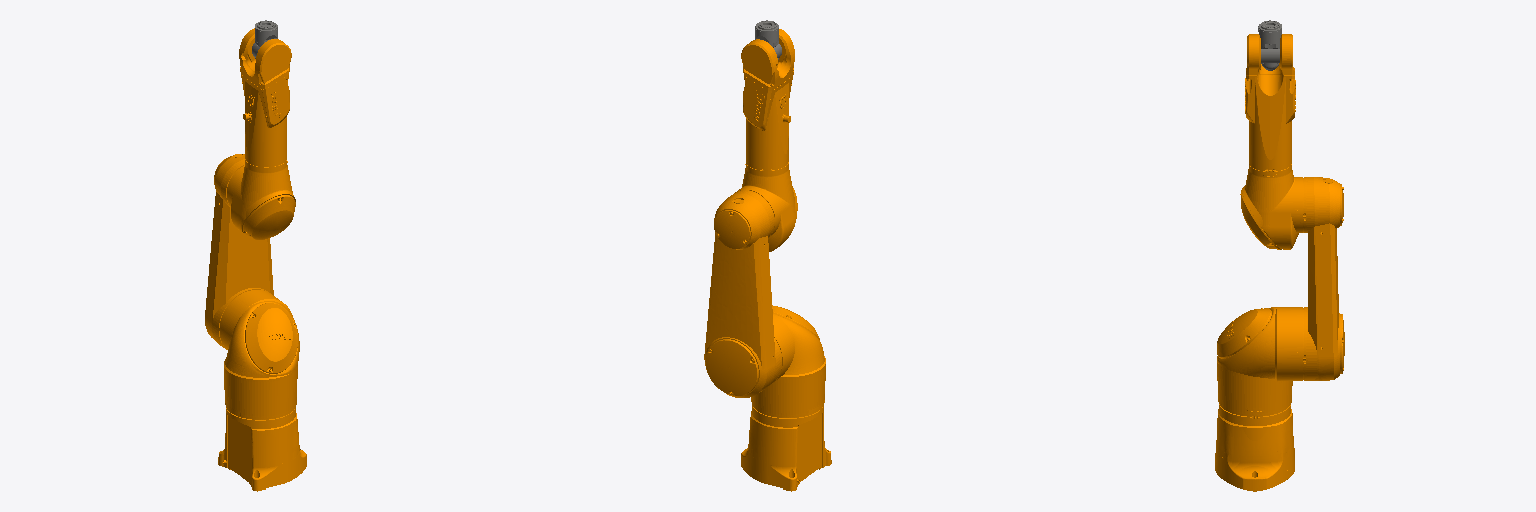
robot.urdf — staubli_tx90l:
<?xml version="1.0" ?>
<!-- =================================================================================== -->
<!-- |    This document was autogenerated by xacro from tx90l.xacro                    | -->
<!-- |    EDITING THIS FILE BY HAND IS NOT RECOMMENDED                                 | -->
<!-- =================================================================================== -->
<robot name="staubli_tx90l" xmlns:xacro="http://ros.org/wiki/xacro">
  <!-- colours based on RAL values supplied by Staubli -->
  <!-- all RAL colours converted using http://www.visual-graphics.de/en/customer-care/ral-colours -->
  <!-- default colours for robots -->
  <!-- RAL 1028 - Melon yellow - scara (non-textured) and 6-axis (textured) robots -->
  <!-- RAL 7035 - Light grey - scara robot ESD -->
  <!-- RAL 7045 - Telegrey 1 - scara robot base (textured) -->
  <!-- RAL 7047 - Telegrey 4 - paint (smooth) -->
  <!-- RAL 9007 - Grey aluminium - HE (smooth) -->
  <!-- RAL 9016 - Traffic white - CR (smooth) -->
  <!-- old colour definitions, for bw-compatibility. These are DEPRECATED. -->
  <!-- default colors for robots -->
  <!-- old material definitions, for bw-compatibility. These are DEPRECATED. -->
  <!-- links -->
  <link name="base_link">
    <visual>
      <origin rpy="0 0 0" xyz="0 0 0"/>
      <geometry>
        <mesh filename="package://staubli_tx90_support/meshes/tx90/visual/base_link.stl"/>
      </geometry>
      <material name="">
        <color rgba="1.0 0.607843137255 0.0 1.0"/>
      </material>
    </visual>
    <collision>
      <origin rpy="0 0 0" xyz="0 0 0"/>
      <geometry>
        <mesh filename="package://staubli_tx90_support/meshes/tx90/collision/base_link.stl"/>
      </geometry>
    </collision>
    <inertial>
      <mass value="10.733459"/>
      <origin rpy="0.0 0.0 0.0" xyz="0.014288 0.000001 0.122264"/>
      <inertia ixx="0.096590" ixy="-0.000005" ixz="-0.003803" iyy="0.087591" iyz="-0.000001" izz="0.081632"/>
    </inertial>
  </link>
  <link name="link_1">
    <visual>
      <origin rpy="0 0 0" xyz="0 0 0"/>
      <geometry>
        <mesh filename="package://staubli_tx90_support/meshes/tx90/visual/link_1.stl"/>
      </geometry>
      <material name="">
        <color rgba="1.0 0.607843137255 0.0 1.0"/>
      </material>
    </visual>
    <collision>
      <origin rpy="0 0 0" xyz="0 0 0"/>
      <geometry>
        <mesh filename="package://staubli_tx90_support/meshes/tx90/collision/link_1.stl"/>
      </geometry>
    </collision>
    <inertial>
      <mass value="16.934564"/>
      <origin rpy="0.0 0.0 0.0" xyz="0.019143 0.024764 -0.064596"/>
      <inertia ixx="0.222318" ixy="0.016499" ixz="0.023794" iyy="0.208959" iyz="0.031663" izz="0.157081"/>
    </inertial>
  </link>
  <link name="link_2">
    <visual>
      <origin rpy="0 0 0" xyz="0 0 0"/>
      <geometry>
        <mesh filename="package://staubli_tx90_support/meshes/tx90l/visual/link_2.stl"/>
      </geometry>
      <material name="">
        <color rgba="1.0 0.607843137255 0.0 1.0"/>
      </material>
    </visual>
    <collision>
      <origin rpy="0 0 0" xyz="0 0 0"/>
      <geometry>
        <mesh filename="package://staubli_tx90_support/meshes/tx90l/collision/link_2.stl"/>
      </geometry>
    </collision>
    <inertial>
      <mass value="14.350897"/>
      <origin rpy="0.0 0.0 0.0" xyz="-0.000007 0.221192 0.206856"/>
      <inertia ixx="0.595207" ixy="0.000005" ixz="-0.000008" iyy="0.625683" iyz="-0.003766" izz="0.059863"/>
    </inertial>
  </link>
  <link name="link_3">
    <visual>
      <origin rpy="0 0 0" xyz="0 0 0"/>
      <geometry>
        <mesh filename="package://staubli_tx90_support/meshes/tx90/visual/link_3.stl"/>
      </geometry>
      <material name="">
        <color rgba="1.0 0.607843137255 0.0 1.0"/>
      </material>
    </visual>
    <collision>
      <origin rpy="0 0 0" xyz="0 0 0"/>
      <geometry>
        <mesh filename="package://staubli_tx90_support/meshes/tx90/collision/link_3.stl"/>
      </geometry>
    </collision>
    <inertial>
      <mass value="7.501506"/>
      <origin rpy="0.0 0.0 0.0" xyz="0.000002 0.065008 -0.071428"/>
      <inertia ixx="0.058902" ixy="0.000000" ixz="0.000001" iyy="0.056884" iyz="-0.003672" izz="0.034271"/>
    </inertial>
  </link>
  <link name="link_4">
    <visual>
      <origin rpy="0 0 0" xyz="0 0 0"/>
      <geometry>
        <mesh filename="package://staubli_tx90_support/meshes/tx90l/visual/link_4.stl"/>
      </geometry>
      <material name="">
        <color rgba="1.0 0.607843137255 0.0 1.0"/>
      </material>
    </visual>
    <collision>
      <origin rpy="0 0 0" xyz="0 0 0"/>
      <geometry>
        <mesh filename="package://staubli_tx90_support/meshes/tx90l/collision/link_4.stl"/>
      </geometry>
    </collision>
    <inertial>
      <mass value="6.420429"/>
      <origin rpy="0.0 0.0 0.0" xyz="-0.001998 0.049992 0.360301"/>
      <inertia ixx="0.103999" ixy="0.000003" ixz="-0.001379" iyy="0.098782" iyz="-0.000007" izz="0.019071"/>
    </inertial>
  </link>
  <link name="link_5">
    <visual>
      <origin rpy="0 0 0" xyz="0 0 0"/>
      <geometry>
        <mesh filename="package://staubli_tx90_support/meshes/tx90/visual/link_5.stl"/>
      </geometry>
      <material name="">
        <color rgba="0.529411764706 0.521568627451 0.505882352941 1.0"/>
      </material>
    </visual>
    <collision>
      <origin rpy="0 0 0" xyz="0 0 0"/>
      <geometry>
        <mesh filename="package://staubli_tx90_support/meshes/tx90/collision/link_5.stl"/>
      </geometry>
    </collision>
    <inertial>
      <mass value="0.568760"/>
      <origin rpy="0.0 0.0 0.0" xyz="0.000000 0.049931 0.022823"/>
      <inertia ixx="0.001084" ixy="0.000000" ixz="0.000000" iyy="0.001123" iyz="0.000001" izz="0.000383"/>
    </inertial>
  </link>
  <link name="link_6">
    <visual>
      <origin rpy="0 0 0" xyz="0 0 0"/>
      <geometry>
        <mesh filename="package://staubli_tx90_support/meshes/tx90/visual/link_6.stl"/>
      </geometry>
      <material name="">
        <color rgba="0.529411764706 0.521568627451 0.505882352941 1.0"/>
      </material>
    </visual>
    <collision>
      <origin rpy="0 0 0" xyz="0 0 0"/>
      <geometry>
        <mesh filename="package://staubli_tx90_support/meshes/tx90/collision/link_6.stl"/>
      </geometry>
    </collision>
    <inertial>
      <mass value="0.030977"/>
      <origin rpy="0.0 0.0 0.0" xyz="-0.000243 0.050000 -0.206293"/>
      <inertia ixx="0.000012" ixy="-0.000000" ixz="0.000000" iyy="0.000011" iyz="0.000000" izz="0.000022"/>
    </inertial>
  </link>
  <link name="tool0"/>
  <!-- joints -->
  <joint name="joint_1" type="revolute">
    <origin rpy="0 0 0" xyz="0 0 0.478"/>
    <parent link="base_link"/>
    <child link="link_1"/>
    <axis xyz="0 0 1"/>
    <!-- from Staubli instruction manual:
      (1) effort limit = 318 Nm if floor mounted
      (2) effort limit = 111 Nm if wall mounted -->
    <limit effort="318.0" lower="-3.14159" upper="3.14159" velocity="3.75"/>
    <dynamics damping="0.0" friction="0.0"/>
  </joint>
  <joint name="joint_2" type="revolute">
    <origin rpy="0 0 0" xyz="0.050 0 0"/>
    <parent link="link_1"/>
    <child link="link_2"/>
    <axis xyz="0 1 0"/>
    <limit effort="130.0" lower="-2.268928" upper="2.574360" velocity="2.97"/>
    <dynamics damping="0.0" friction="0.0"/>
  </joint>
  <joint name="joint_3" type="revolute">
    <origin rpy="0 0 0" xyz="0 0.05 0.500"/>
    <parent link="link_2"/>
    <child link="link_3"/>
    <axis xyz="0 1 0"/>
    <limit effort="65.0" lower="-2.530727" upper="2.530727" velocity="4.45"/>
    <dynamics damping="0.0" friction="0.0"/>
  </joint>
  <joint name="joint_4" type="revolute">
    <origin rpy="0 0 0" xyz="0 0 0"/>
    <parent link="link_3"/>
    <child link="link_4"/>
    <axis xyz="0 0 1"/>
    <limit effort="34.0" lower="-4.712389" upper="4.712389" velocity="7.50"/>
    <dynamics damping="0.0" friction="0.0"/>
  </joint>
  <joint name="joint_5" type="revolute">
    <origin rpy="0 0 0" xyz="0 0 0.550"/>
    <parent link="link_4"/>
    <child link="link_5"/>
    <axis xyz="0 1 0"/>
    <limit effort="29.0" lower="-2.007129" upper="2.443461" velocity="6.11"/>
    <dynamics damping="0.0" friction="0.0"/>
  </joint>
  <joint name="joint_6" type="revolute">
    <origin rpy="0 0 0" xyz="0 0 0.100"/>
    <parent link="link_5"/>
    <child link="link_6"/>
    <axis xyz="0 0 1"/>
    <limit effort="11.0" lower="-4.712389" upper="4.712389" velocity="10.47"/>
    <dynamics damping="0.0" friction="0.0"/>
  </joint>
  <joint name="joint_6-tool0" type="fixed">
    <parent link="link_6"/>
    <child link="tool0"/>
    <origin rpy="0 0 0" xyz="0 0 0"/>
  </joint>
</robot>

--- Facts derived from the render (not from the file) ---
3 views of the same robot in one strip: view 1: azimuth 30°, elevation 25°; view 2: azimuth 150°, elevation 25°; view 3: azimuth 270°, elevation 25° (orthographic).
Robot: staubli_tx90l — 8 links, 7 joints (6 revolute, 1 fixed); root link base_link; default pose: all joints at 0.
Links seen in each view (by area): view 1: link_1, link_2, link_4, base_link, link_3; view 2: link_2, link_4, base_link, link_1, link_3; view 3: link_1, link_2, base_link, link_4, link_3, link_5.
Boxes of the visible links, x1,y1,x2,y2 form: link_1: (219,290,299,419); link_2: (205,154,273,349); link_4: (239,28,291,165); base_link: (218,408,306,491); link_3: (227,159,295,239); link_2: (704,190,781,397); link_4: (741,29,794,169); base_link: (741,406,831,491); link_1: (751,305,825,417); link_3: (735,162,797,251); link_1: (1217,307,1303,416); link_2: (1304,177,1344,380); base_link: (1215,404,1294,491); link_4: (1245,34,1295,169); link_3: (1240,164,1303,249); link_5: (1258,27,1281,70).
Bounding box of the posed robot: 0.2973 × 0.4227 × 1.63 m (x, y, z).
Meshes: 7 distinct files referenced, 7 mesh visuals loaded (7 binary STL).